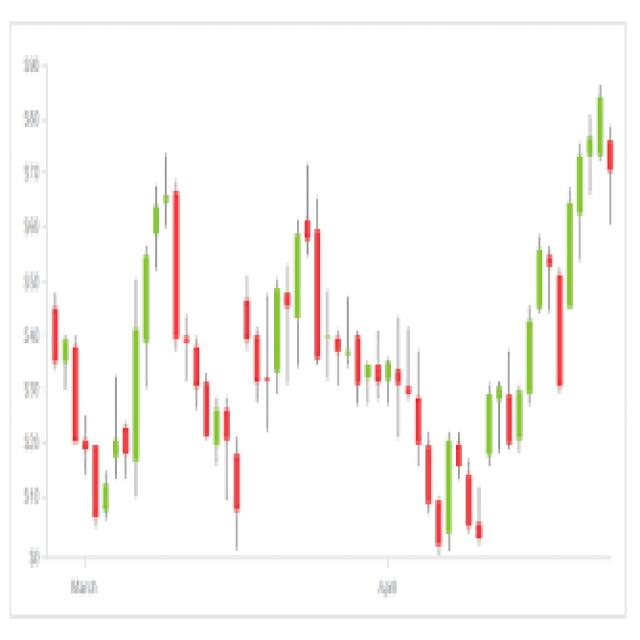bandeira_baixa: (305, 176, 403, 407)
fundo_duplo: (396, 286, 506, 565)
